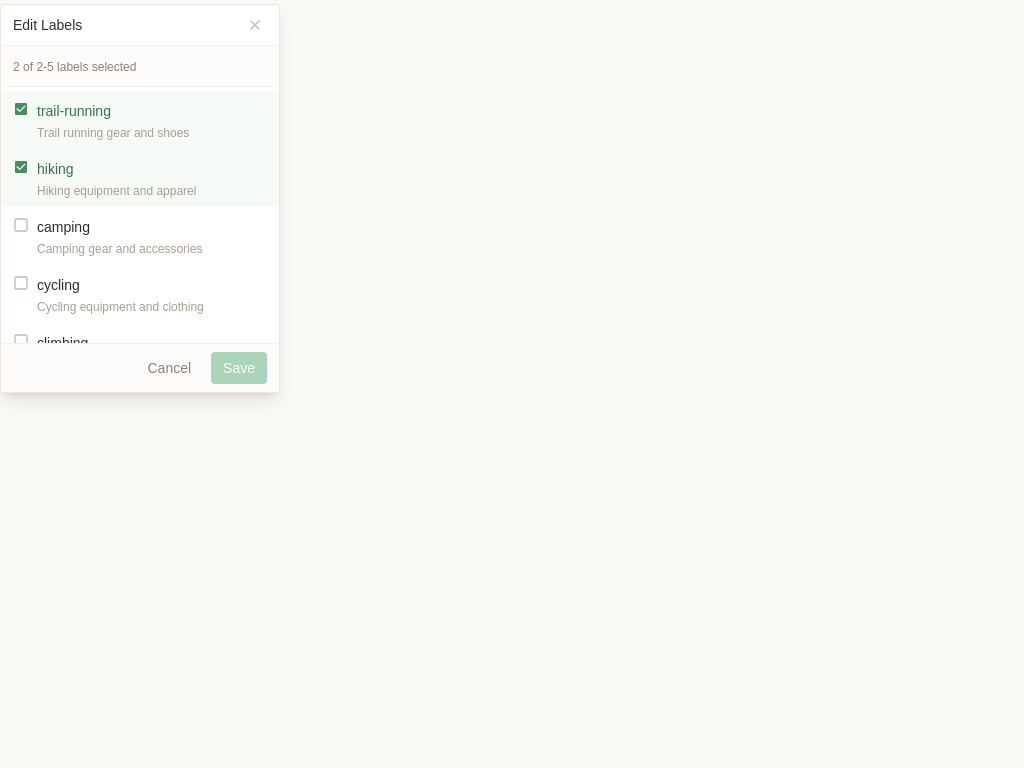
Test: LabelEditDropdown › selection count indicator › updates count when labels are toggled
Expected: the text "2 of 2-5 labels selected" is shown, [13, 60, 136, 74]
// Click to add a third label
Click the checkbox "camping" at (63, 227), box [1, 207, 279, 265]
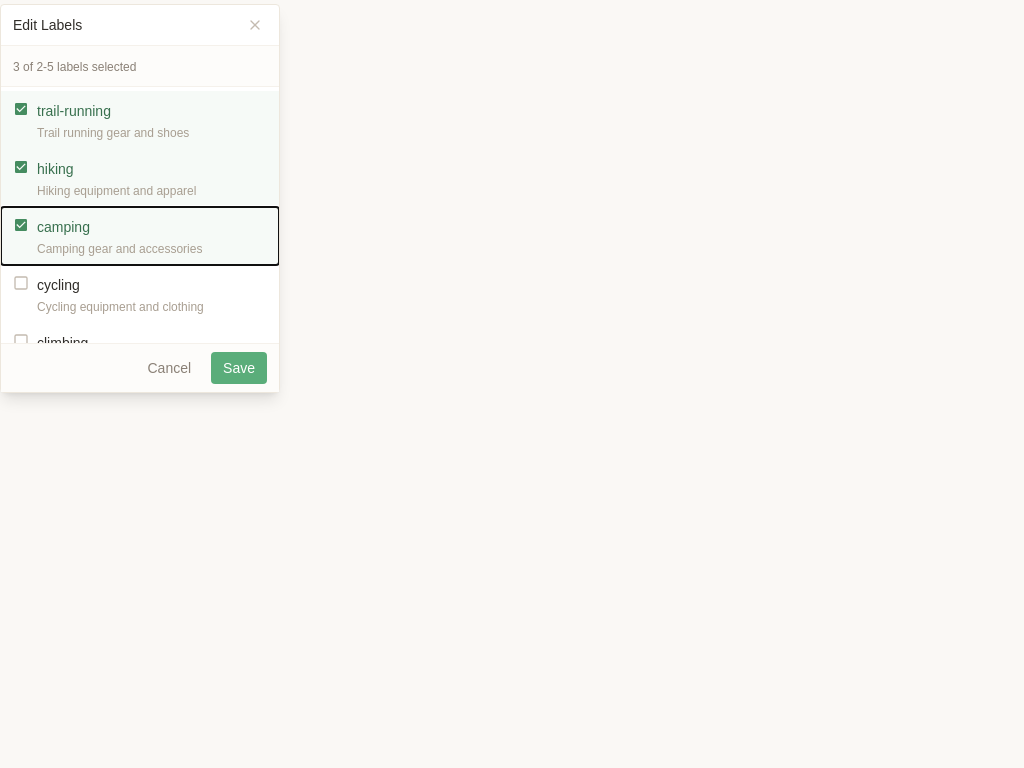
Result: the text "3 of 2-5 labels selected" is shown at [13, 60, 136, 74]
